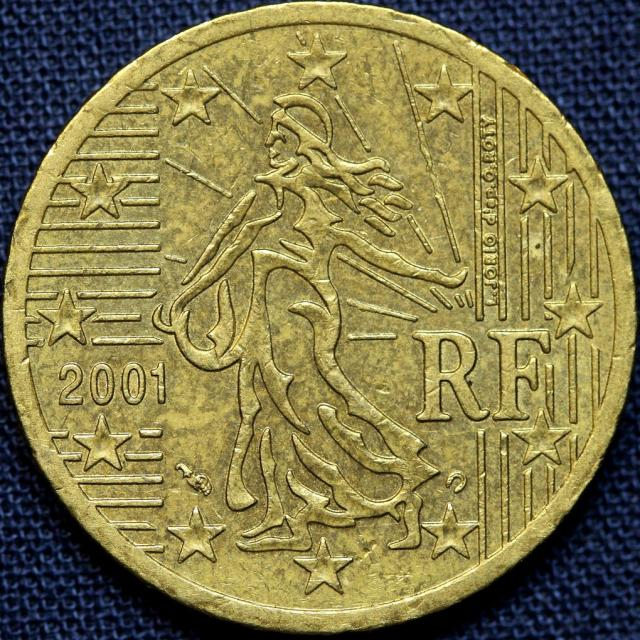Coin: (0, 0, 640, 636)
